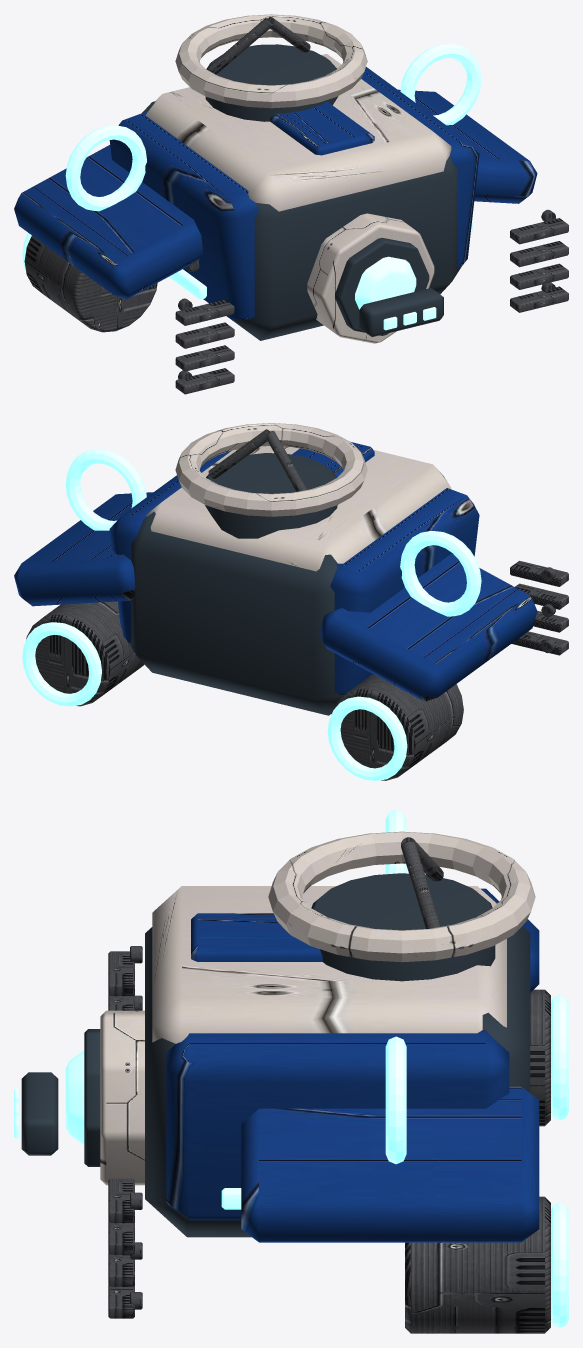
The model's file is patrol_5.glb.
The picture shows the model from 3 angles, top to bottom: view 1: azimuth 30°, elevation 25°; view 2: azimuth 150°, elevation 25°; view 3: azimuth 270°, elevation 25°; orthographic projection. The views are drawn at different scales.
Visible parts, largest first — view 1: Cobalt crown stripe, Ceramic dorsal shell, Graphite chassis, Side vent, Side ID light; view 2: Cobalt crown stripe, Graphite chassis, Ceramic dorsal shell, Side vent, Side ID light; view 3: Cobalt crown stripe, Ceramic dorsal shell, Graphite chassis, Side vent, Side ID light.
Part boxes in pixels (x1,y1,x2,y2): Cobalt crown stripe: (14, 67, 537, 321); Ceramic dorsal shell: (145, 14, 451, 343); Graphite chassis: (142, 44, 460, 340); Side vent: (24, 17, 568, 394); Side ID light: (22, 44, 481, 330); Cobalt crown stripe: (14, 442, 537, 701); Graphite chassis: (128, 453, 344, 715); Ceramic dorsal shell: (145, 423, 451, 571); Side vent: (26, 429, 568, 780); Side ID light: (22, 449, 481, 780); Cobalt crown stripe: (166, 888, 539, 1242); Ceramic dorsal shell: (100, 831, 535, 1185); Graphite chassis: (21, 873, 530, 1237); Side vent: (108, 837, 550, 1333); Side ID light: (14, 809, 568, 1327).
Bounding box in the file's own units: 1.18 × 0.7266 × 0.9505.
Materials: 6 (3 with a texture image).
